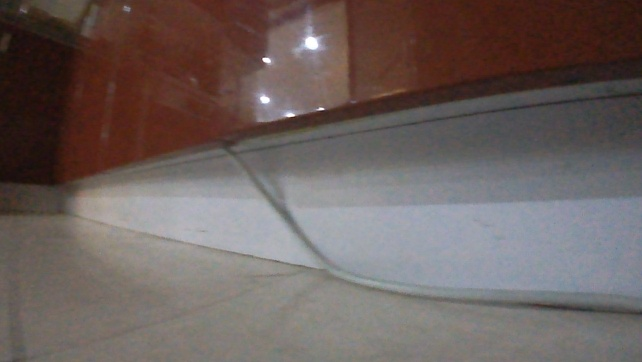wire: (219, 145, 641, 318)
